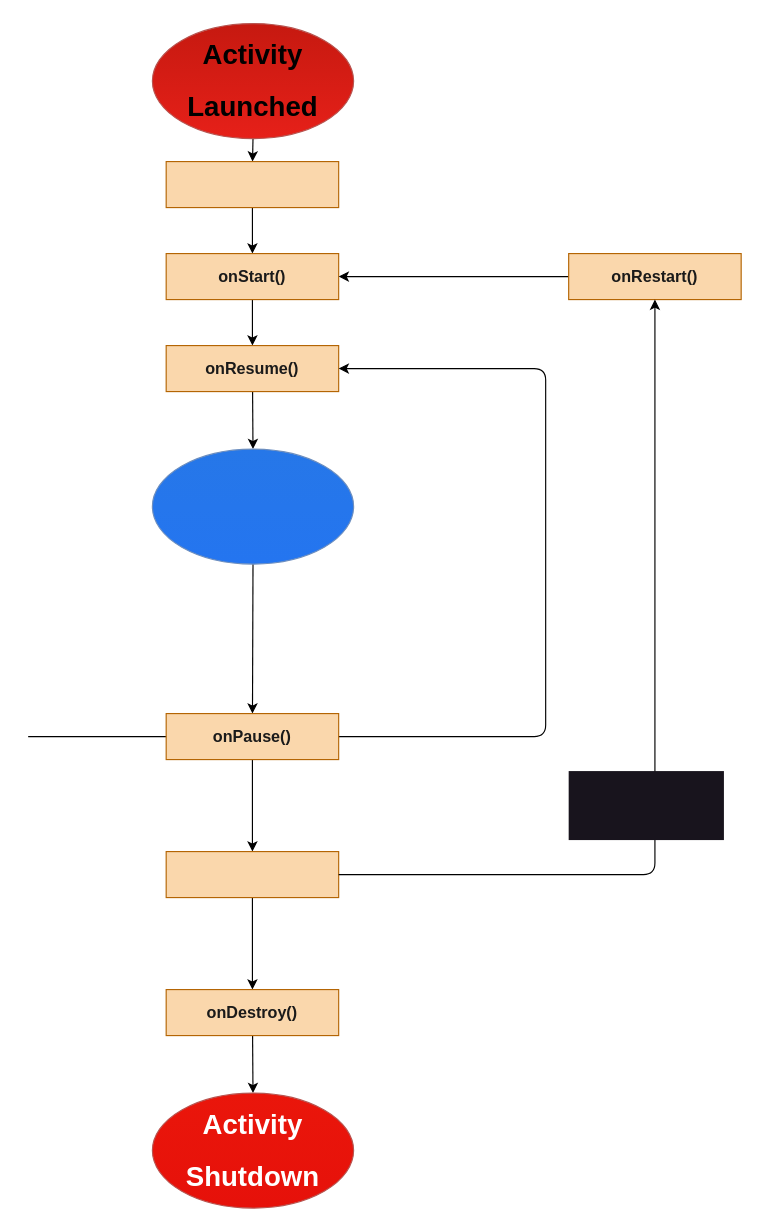
Image size: 761x1231. Some labels were removed from this diagram. Here are the shapes that lost their labels. From the top down, the box of each, then its label:
(165, 160, 339, 208): onCreate()
(151, 448, 354, 564): Activity Running
(568, 770, 723, 839): User navigates to the Activity
(165, 850, 339, 898): onStop()
